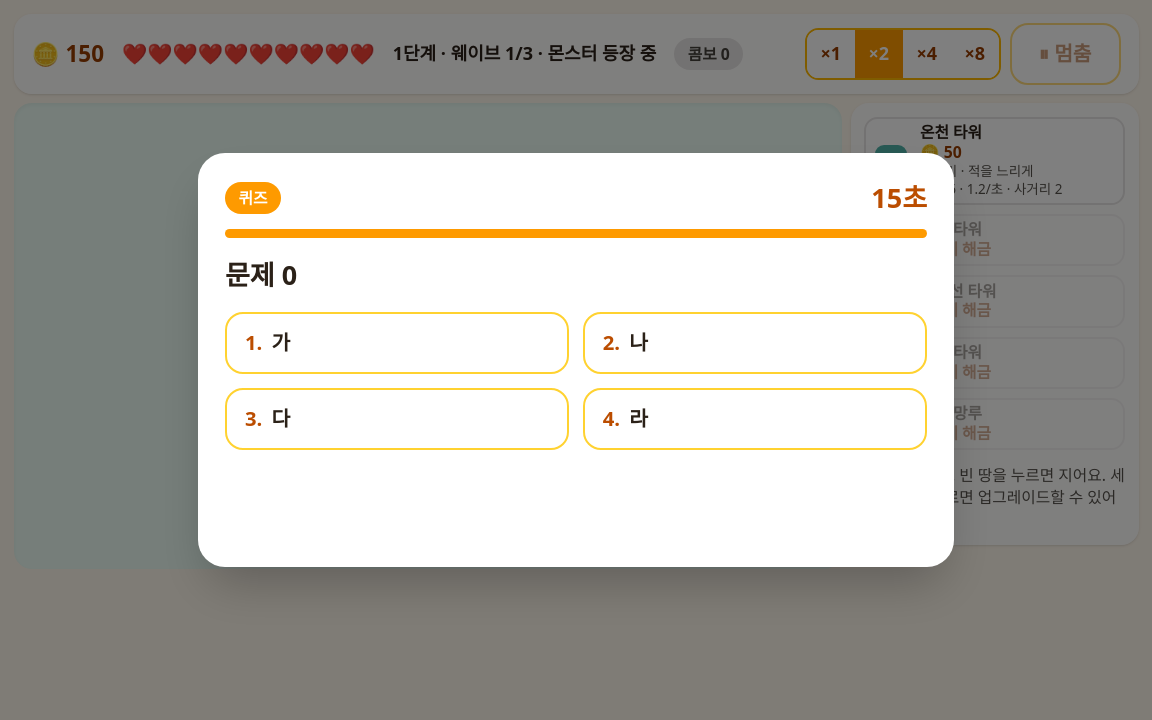
Scenario: PlayPage — 웨이브 1 클리어 시나리오 › 웨이브가 시작되면 바로 퀴즈 모달이 열리고, 답하면 서버 채점 결과와 코인이 반영된다
The image size is (1152, 720).
Expected: the dialog shows "문제 0", [225,256,297,293]
Click the button "2.나" at (609, 342), box [583,312,927,374]
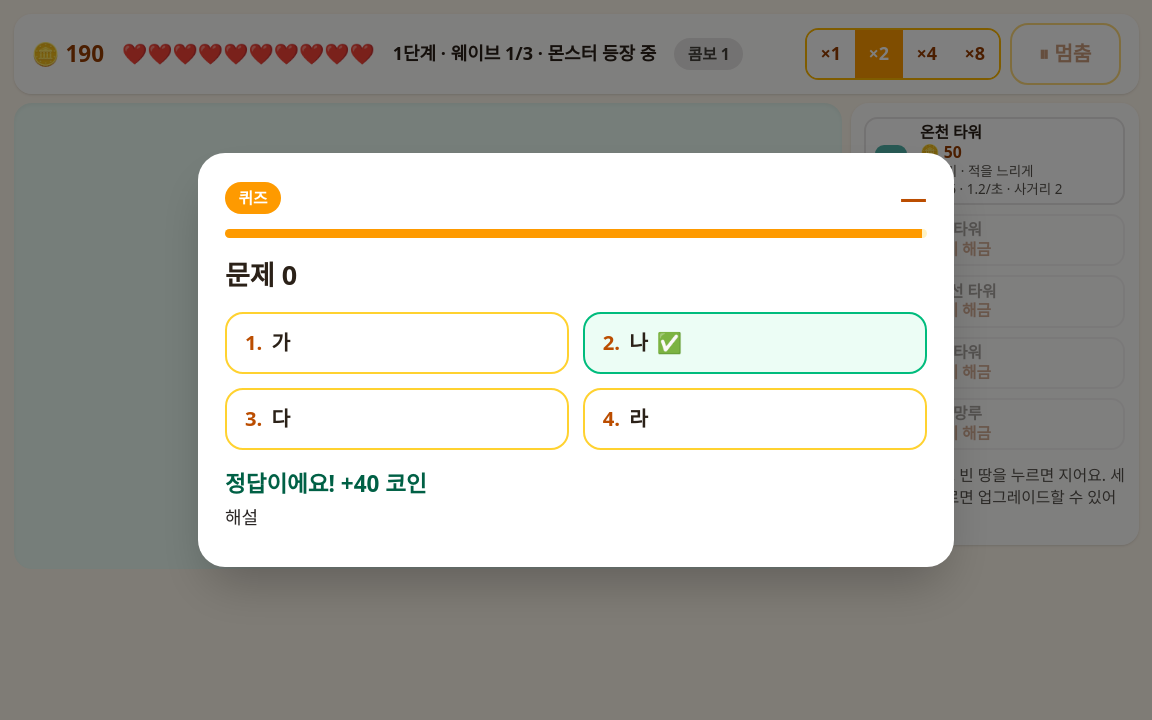
Expected: the message shows "정답이에요! +40 코인", [225,468,427,499]
